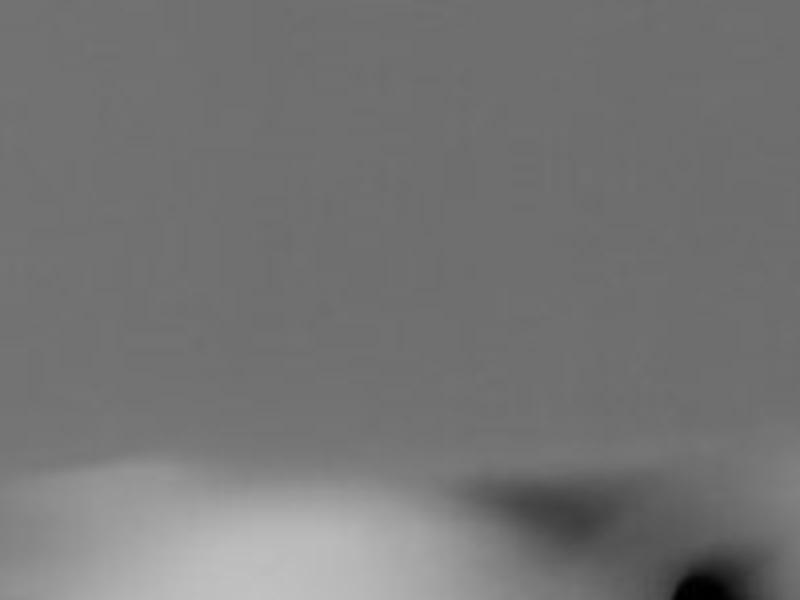defect: (665, 564, 746, 600)
